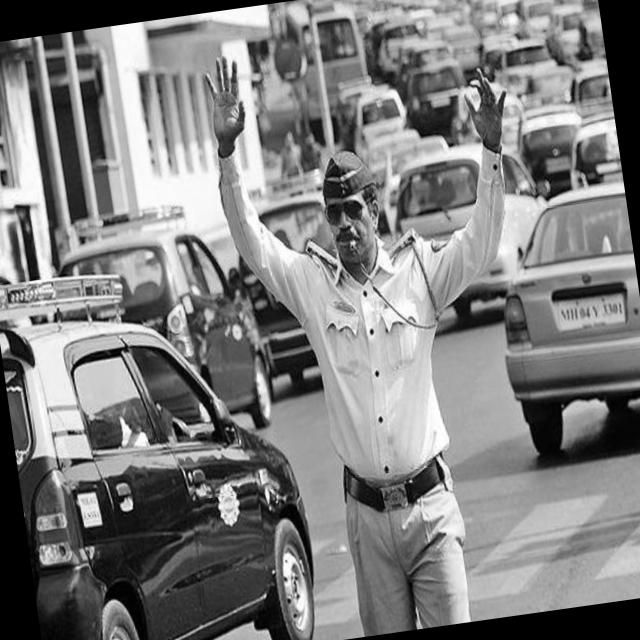car: (0, 321, 314, 640), (60, 224, 272, 427), (506, 182, 640, 456), (455, 153, 547, 316), (239, 259, 317, 387), (397, 145, 482, 239), (250, 169, 336, 256)
person: (206, 57, 506, 634)
